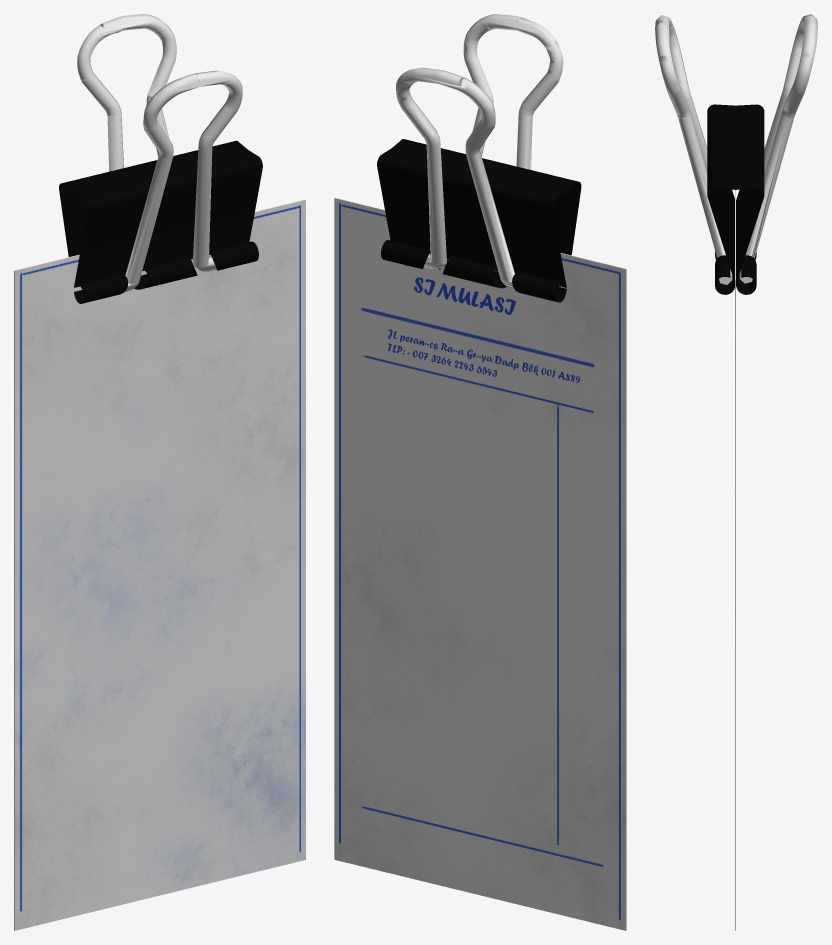
Rendered from Order 2.fbx.
3 views of the same model, side by side, from view 1: azimuth 30°, elevation 25°; view 2: azimuth 150°, elevation 25°; view 3: azimuth 270°, elevation 25° (orthographic).
Visible parts, largest first — view 1: Kertas struk, plastic_other side, Clip 1, Clip 2, plastic_side; view 2: Kertas struk, plastic_side, Clip 2, Clip 1, plastic_other side; view 3: plastic_side, plastic_other side, Clip 2, Clip 1, Kertas struk.
Boxes of the visible parts, x1=… form: Kertas struk: x1=14, y1=199, x2=305, y2=930; plastic_other side: x1=73, y1=150, x2=262, y2=303; Clip 1: x1=124, y1=70, x2=242, y2=292; Clip 2: x1=77, y1=14, x2=176, y2=171; plastic_side: x1=59, y1=140, x2=247, y2=256; Kertas struk: x1=334, y1=198, x2=626, y2=930; plastic_side: x1=377, y1=148, x2=566, y2=302; Clip 2: x1=396, y1=67, x2=514, y2=288; Clip 1: x1=463, y1=14, x2=563, y2=169; plastic_other side: x1=391, y1=139, x2=581, y2=255; plastic_side: x1=736, y1=104, x2=764, y2=294; plastic_other side: x1=707, y1=104, x2=735, y2=294; Clip 2: x1=739, y1=14, x2=817, y2=283; Clip 1: x1=655, y1=15, x2=732, y2=284; Kertas struk: x1=735, y1=190, x2=735, y2=930.
Size of the model in its own units: 9.04 by 25.21 by 4.44.
